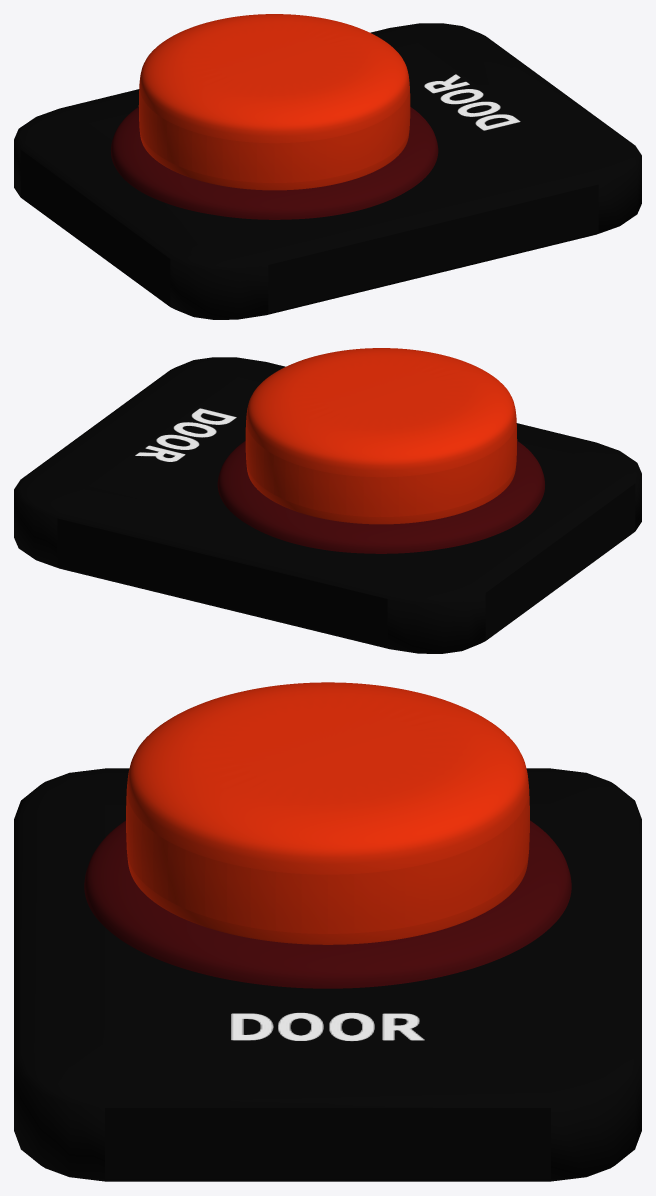
File: fnaf_door_button.glb
3 renders of one model, top to bottom at view 1: azimuth 30°, elevation 25°; view 2: azimuth 150°, elevation 25°; view 3: azimuth 270°, elevation 25°, orthographic. The views are drawn at different scales.
Visible parts, largest first — view 1: Base1, Button, Base2, Text; view 2: Base1, Button, Base2, Text; view 3: Base1, Button, Base2, Text.
Boxes of the visible parts, x1,y1,x2,y2 form: Base1: (14, 23, 641, 319); Button: (138, 14, 410, 190); Base2: (111, 107, 438, 219); Text: (424, 74, 520, 130); Base1: (14, 357, 641, 653); Button: (245, 348, 517, 524); Base2: (217, 441, 544, 553); Text: (135, 408, 236, 461); Base1: (14, 768, 641, 1181); Button: (126, 682, 529, 944); Base2: (84, 820, 571, 988); Text: (231, 1012, 424, 1041).
Size of the model in its own units: 2.54 by 0.8404 by 2.
4 materials, 1 textured.
